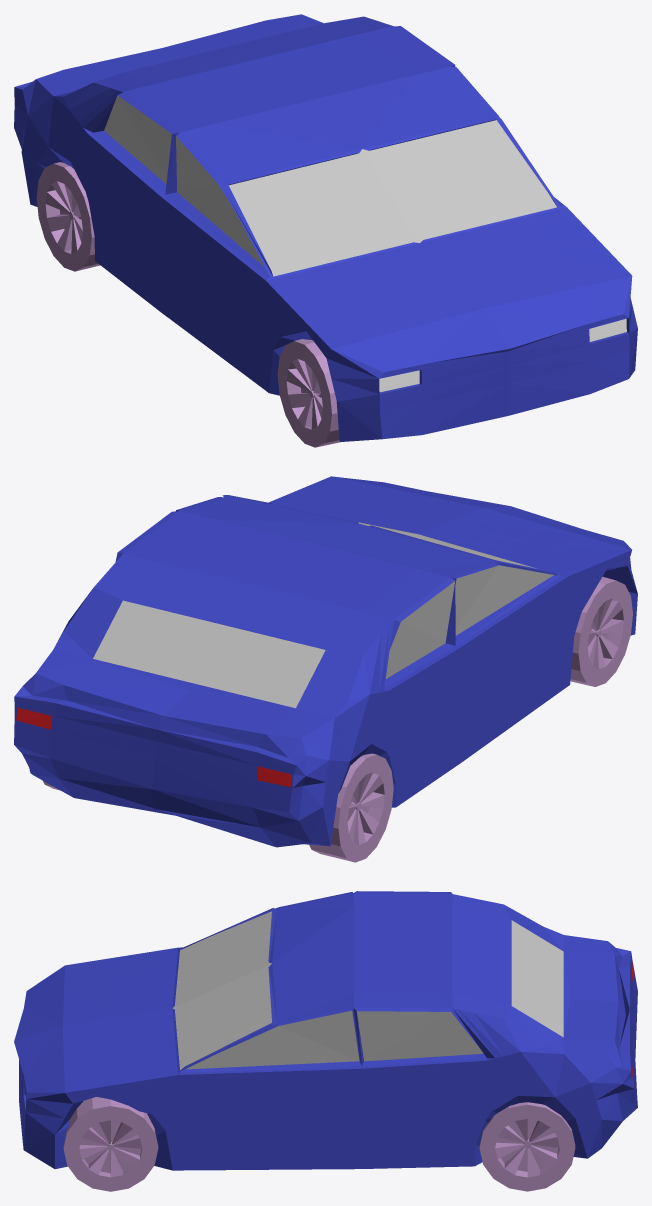
Rendered from car1.obj.
3 views of the same model, one above another, from view 1: azimuth 30°, elevation 25°; view 2: azimuth 150°, elevation 25°; view 3: azimuth 270°, elevation 25° (orthographic). The views are drawn at different scales.
Parts seen in each view (by area): view 1: Cube; view 2: Cube; view 3: Cube.
Boxes of the visible parts, x1,y1,x2,y2 form: Cube: [14, 14, 637, 447]; Cube: [14, 476, 637, 862]; Cube: [14, 891, 637, 1191].
Size of the model in its own units: 1.95 by 1.27 by 4.03.
